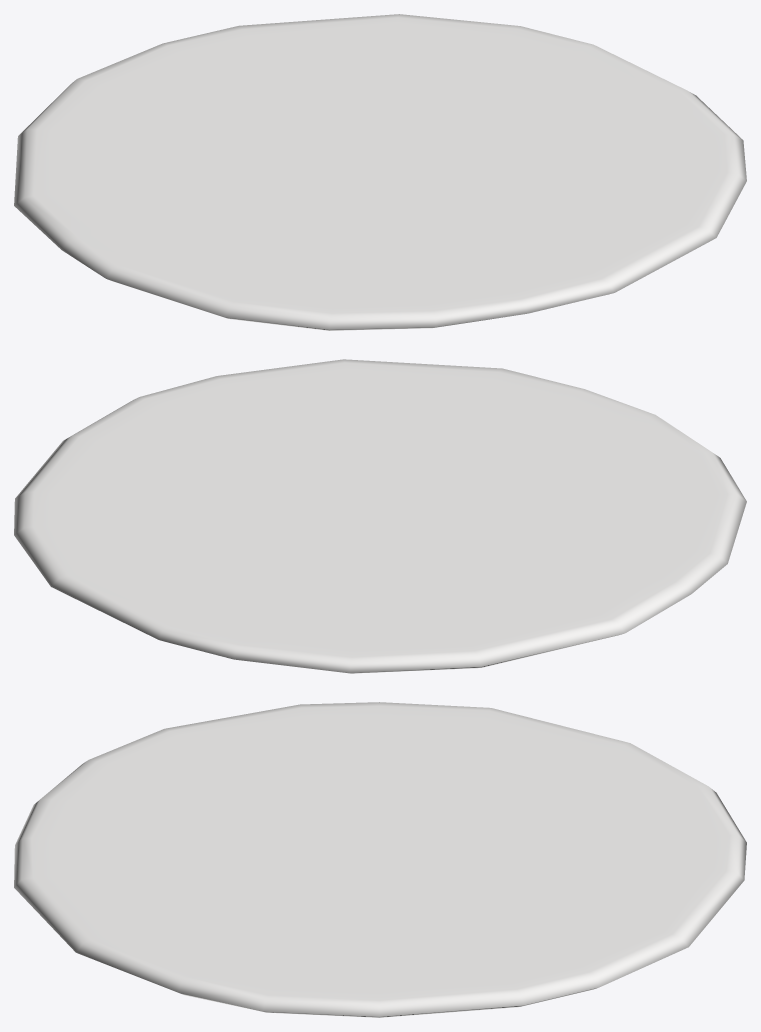
Rendered from P_RugMediumCircle.glb.
3 views of the same model, one above another, from view 1: azimuth 30°, elevation 25°; view 2: azimuth 150°, elevation 25°; view 3: azimuth 270°, elevation 25° (orthographic).
Parts seen in each view (by area): view 1: P_RugMediumCircle; view 2: P_RugMediumCircle; view 3: P_RugMediumCircle.
Boxes of the visible parts, x1,y1,x2,y2 form: P_RugMediumCircle: [14, 14, 746, 330]; P_RugMediumCircle: [14, 359, 746, 673]; P_RugMediumCircle: [14, 702, 746, 1017].
Size of the model in its own units: 2 by 0.0405 by 2.
1 material, 1 textured.
